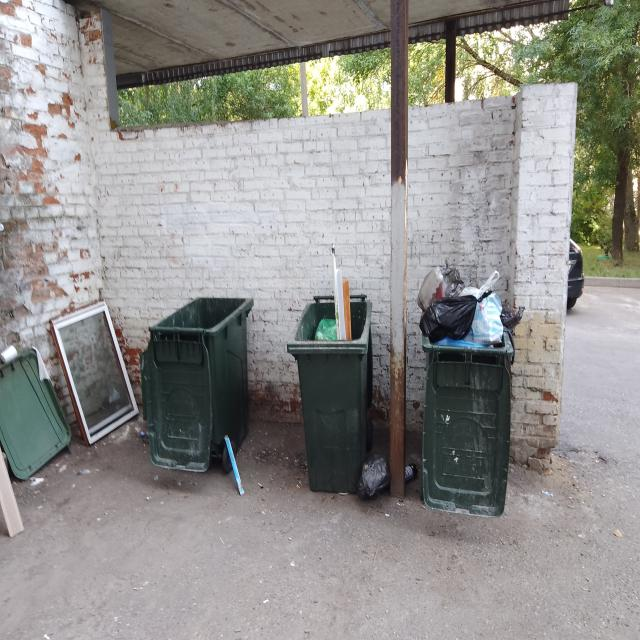bin: (140, 297, 254, 473), (422, 327, 513, 519), (287, 295, 373, 492)
trash: (50, 298, 140, 447), (0, 345, 72, 480), (416, 261, 525, 348), (315, 243, 352, 341), (0, 443, 25, 537), (357, 453, 392, 500), (224, 434, 245, 495), (405, 463, 418, 483)
